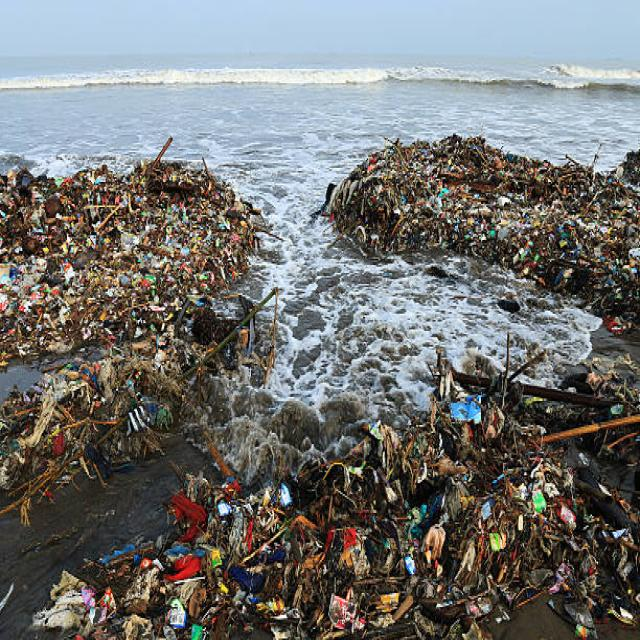trash: (194, 472, 606, 585), (15, 174, 185, 400)
